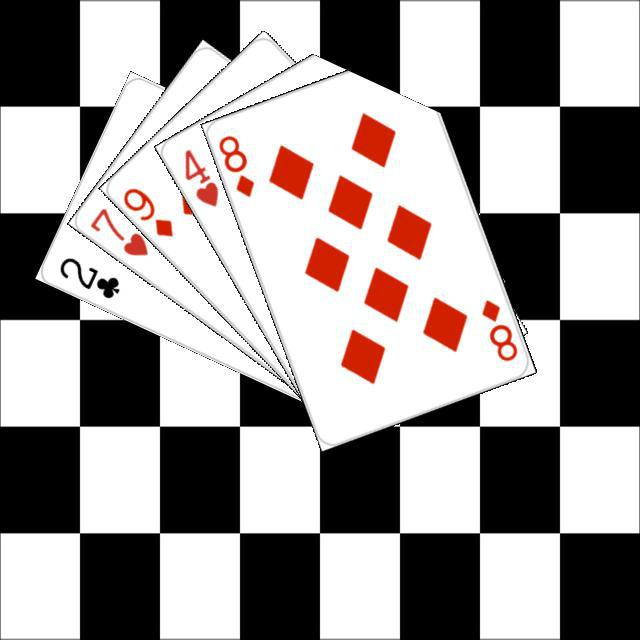2c: (54, 252, 121, 301)
4h: (179, 144, 221, 209)
7h: (84, 202, 150, 258)
8d: (476, 295, 520, 363), (213, 130, 256, 199)
9d: (118, 182, 175, 239)
